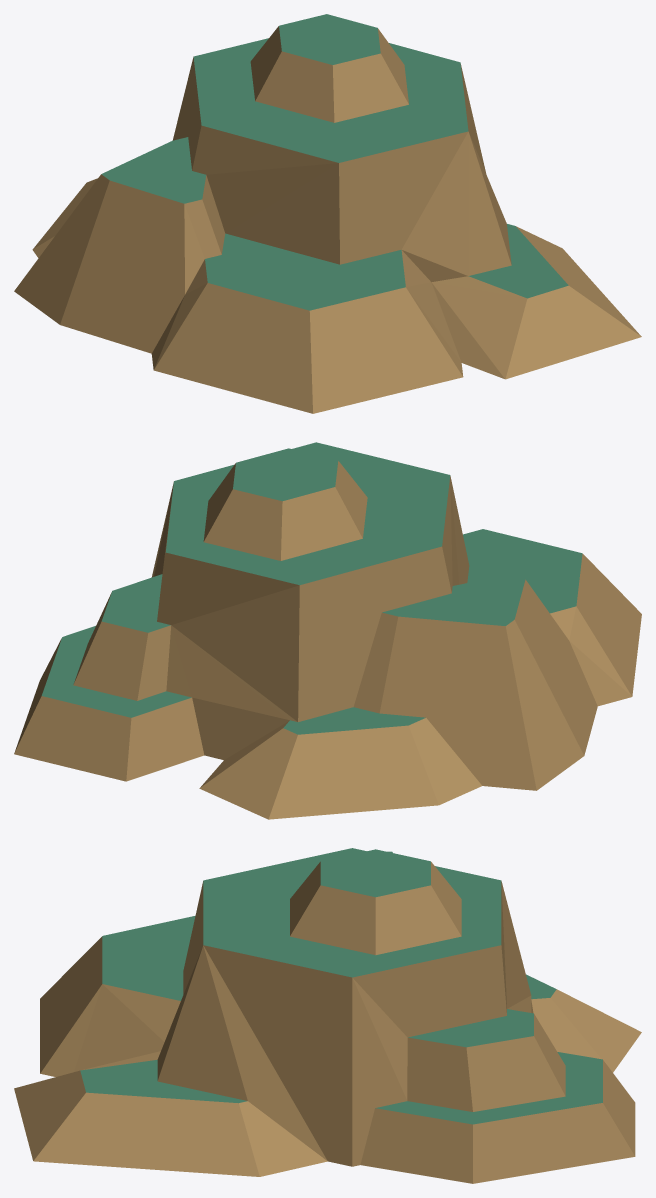
Rendered from Rock_Medium_Mesa_Eroded_Moss_Grass_Cluster_01.FBX.
The picture shows the model from 3 angles, top to bottom: view 1: azimuth 30°, elevation 25°; view 2: azimuth 150°, elevation 25°; view 3: azimuth 270°, elevation 25°; orthographic projection. The views are drawn at different scales.
Visible parts, largest first — view 1: Rock_Medium_Mesa_Eroded_Moss_Grass_Cluster_01; view 2: Rock_Medium_Mesa_Eroded_Moss_Grass_Cluster_01; view 3: Rock_Medium_Mesa_Eroded_Moss_Grass_Cluster_01.
Boxes of the visible parts, x1,y1,x2,y2 form: Rock_Medium_Mesa_Eroded_Moss_Grass_Cluster_01: (14,14,641,413); Rock_Medium_Mesa_Eroded_Moss_Grass_Cluster_01: (14,442,641,819); Rock_Medium_Mesa_Eroded_Moss_Grass_Cluster_01: (14,848,641,1183).
Size of the model in its own units: 4881 by 2091 by 5521.
